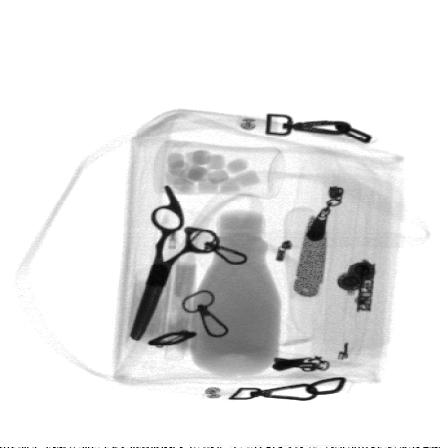Knife: (293, 213, 328, 300)
Scissors: (128, 186, 220, 341)
